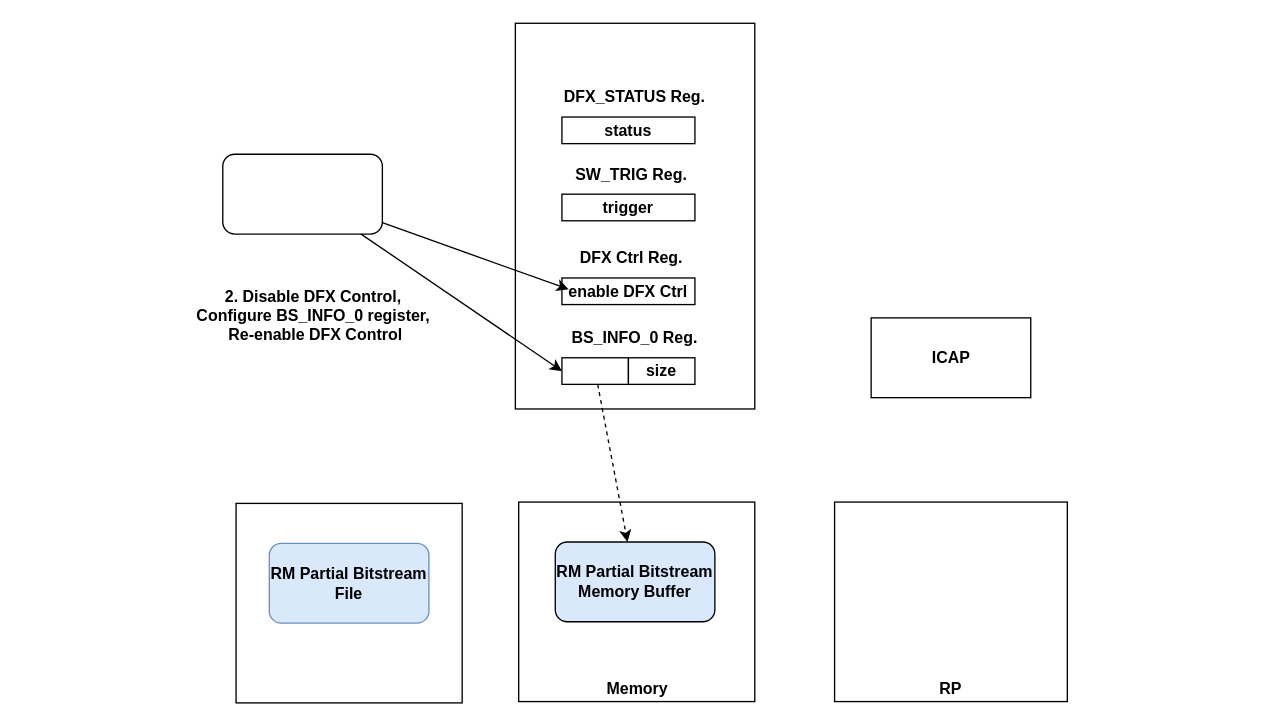
This 1282x726 diagram has some shape labels left out. The box of each missing label's shape, as (x1, y1, x2, y2) in pixels:
addr: (561, 356, 628, 384)
DFX Controller: (514, 22, 755, 409)
File System: (235, 502, 462, 703)
Software: (221, 153, 382, 234)
